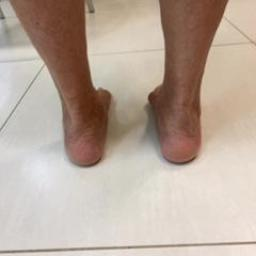Back View -Both Feet-: (38, 62, 219, 179)
